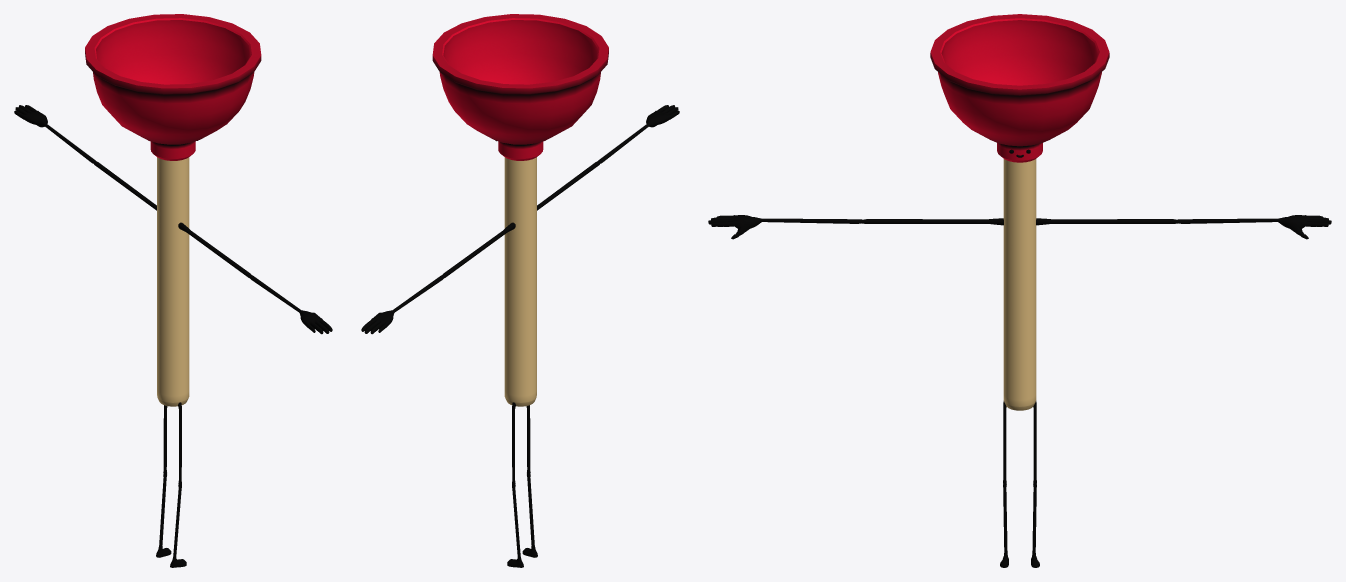
3 views of the same model, side by side, from view 1: azimuth 30°, elevation 25°; view 2: azimuth 150°, elevation 25°; view 3: azimuth 270°, elevation 25° (orthographic).
Visible parts, largest first — view 1: _100Avatars_155_CoolPlunger; view 2: _100Avatars_155_CoolPlunger; view 3: _100Avatars_155_CoolPlunger.
Part boxes in pixels (bbox=[...]): _100Avatars_155_CoolPlunger: bbox=[14, 14, 332, 567]; _100Avatars_155_CoolPlunger: bbox=[361, 14, 679, 567]; _100Avatars_155_CoolPlunger: bbox=[708, 14, 1331, 567].
Bounding box in the file's own units: 1.67 × 5.28 × 5.82.
1 material, 1 textured.
